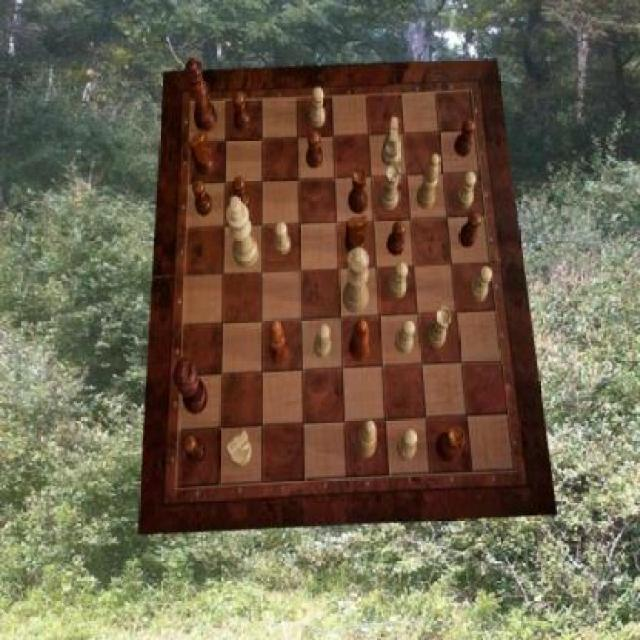bishop: (269, 318, 289, 364), (349, 318, 369, 361)
black-bishop: (174, 357, 208, 415)
black-king: (189, 130, 214, 176), (345, 215, 367, 254)
black-knight: (458, 212, 482, 248), (454, 118, 474, 157), (192, 179, 212, 216), (386, 220, 406, 256), (183, 434, 206, 464), (234, 91, 251, 129), (306, 131, 323, 168), (234, 177, 251, 213)
black-pawn: (185, 59, 218, 133)
black-queen: (437, 426, 466, 462), (348, 168, 367, 214)
black-rook: (417, 154, 440, 210), (356, 420, 376, 458)
white-bishop: (226, 197, 259, 269)
white-king: (382, 117, 401, 168), (228, 429, 252, 467)
white-knight: (470, 268, 492, 302), (389, 262, 409, 299), (457, 171, 477, 208), (396, 319, 416, 353), (397, 429, 417, 462), (310, 88, 326, 128), (314, 323, 331, 358), (274, 222, 291, 256)
white-pawn: (343, 248, 370, 314)
white-queen: (426, 308, 451, 349), (380, 166, 401, 212)
